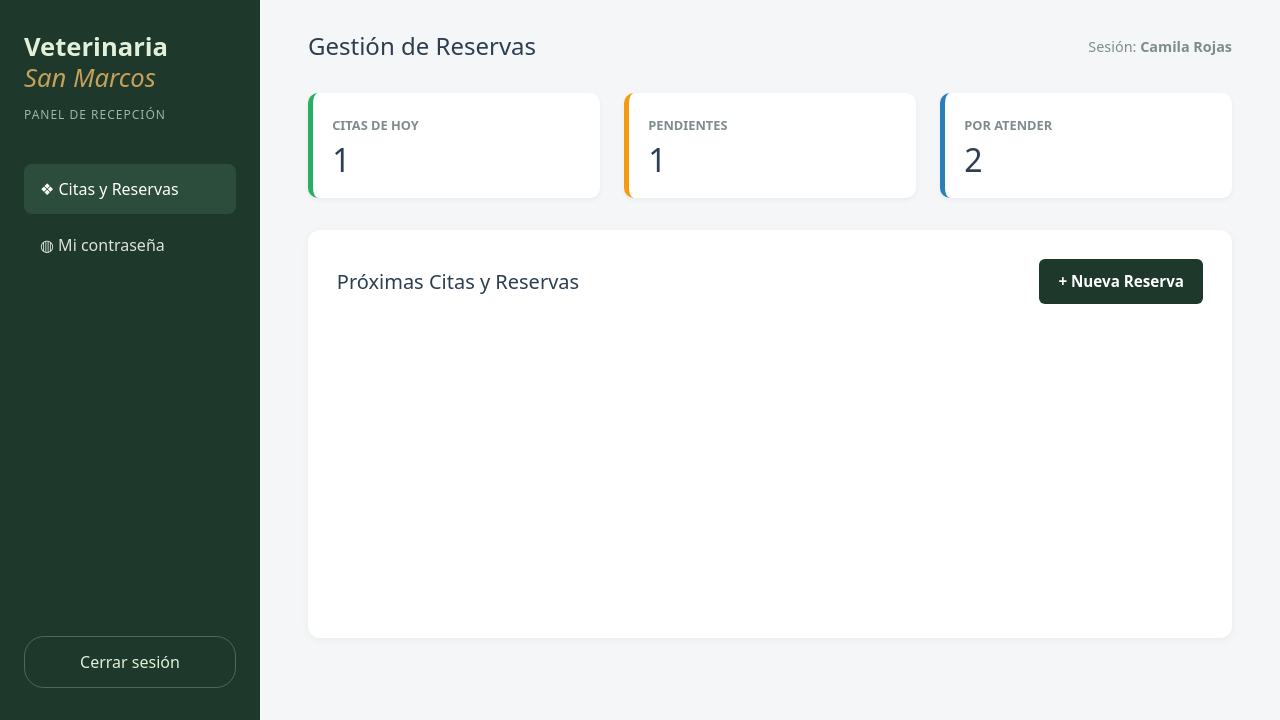
Test: RecepcionistaDashboard (panel de recepción con la API) › 11. La recepcionista cambia su contraseña desde "Mi contraseña" y vuelve a la agenda
Click the button "◍ Mi contraseña": [130, 245] box [24,220,236,270]
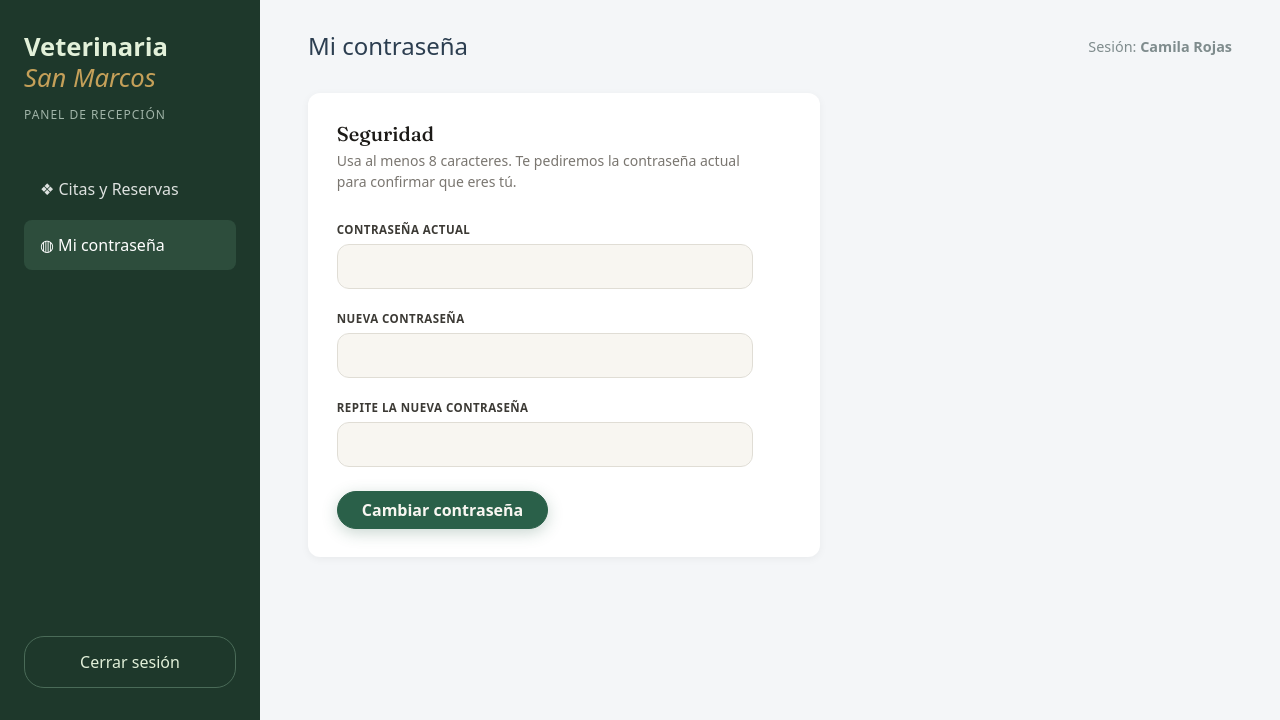
Expected: the text "Pepe" is not shown
Expected: the heading "Mi contraseña" is shown, [308,32,468,61]
In the password field labelled "Contraseña actual": [545, 266] box [337,244,753,289], type "Recep123!"
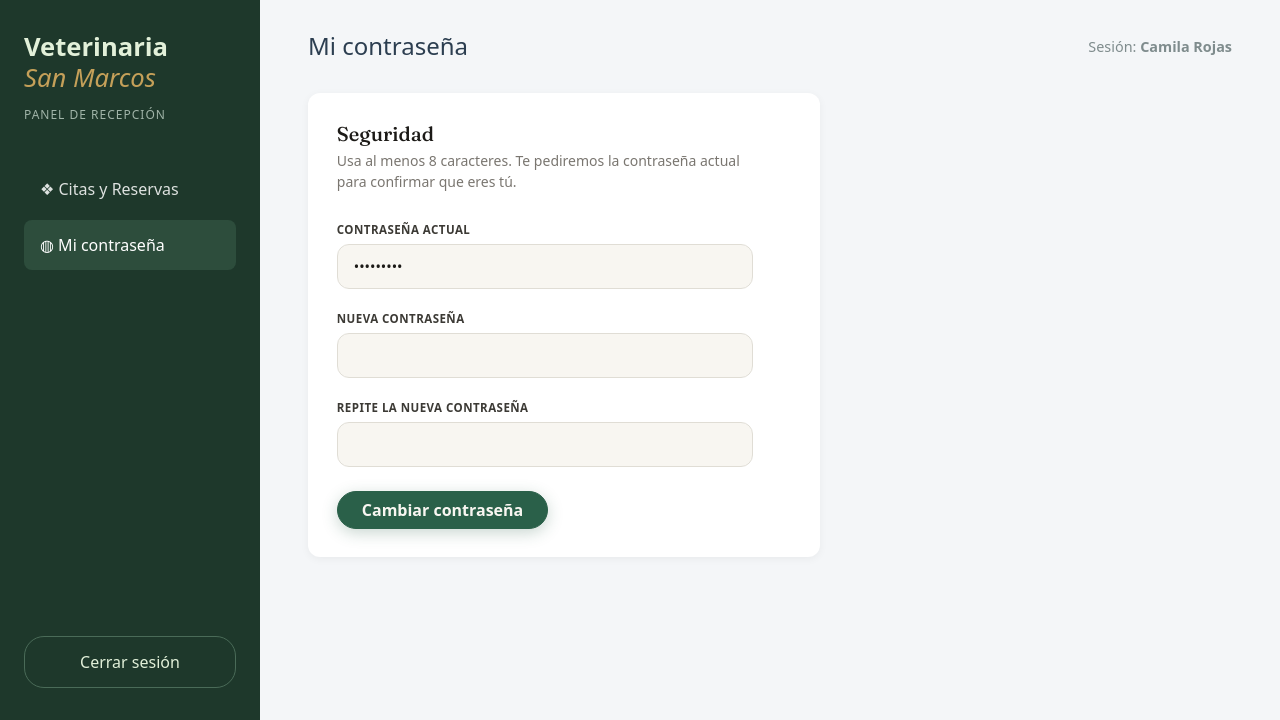
In the password field labelled "Nueva contraseña": [545, 356] box [337,333,753,378], type "Sopaipilla1234"
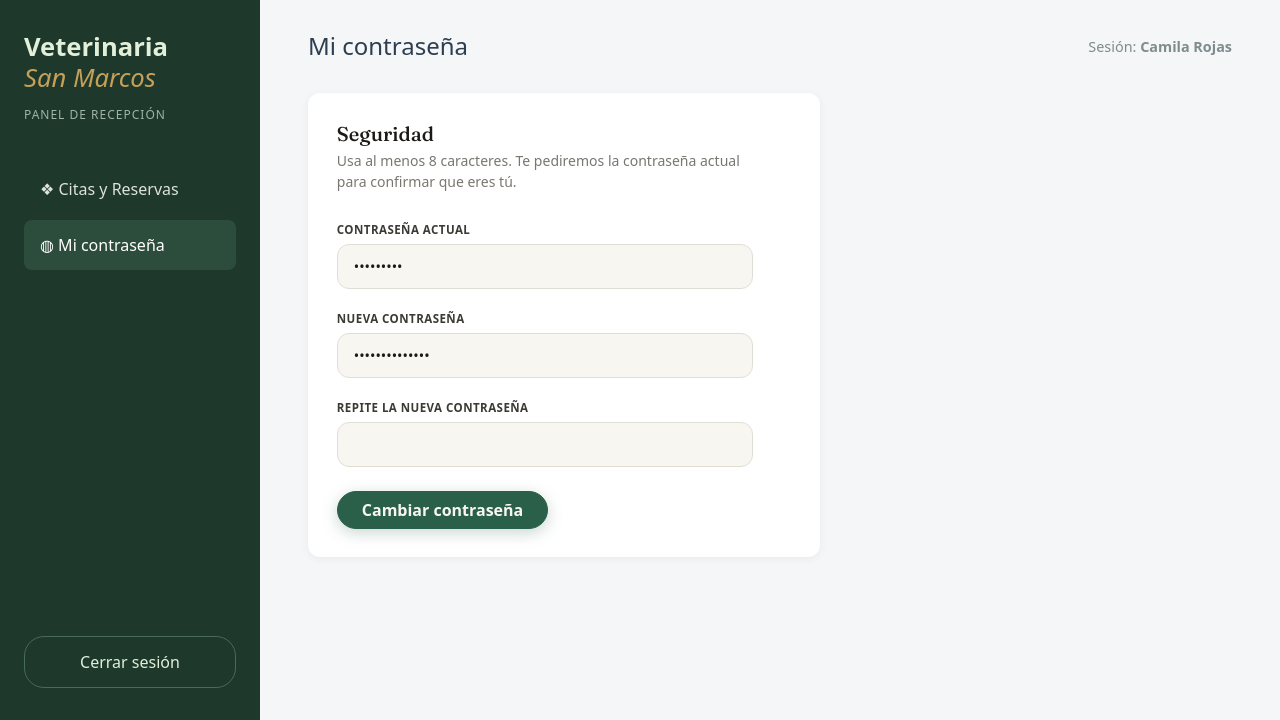
In the password field labelled "Repite la nueva contraseña": [545, 444] box [337,422,753,467], type "Sopaipilla1234"
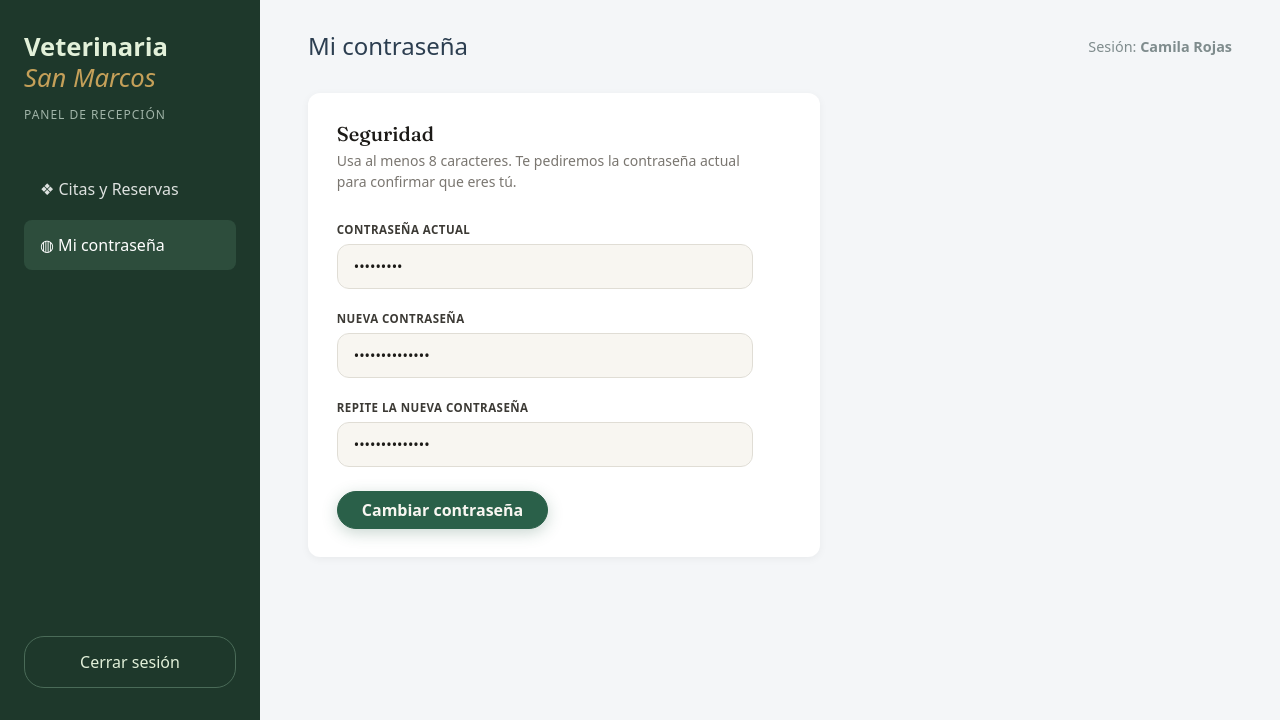
Click the button "Cambiar contraseña": [443, 510] box [337,491,548,529]
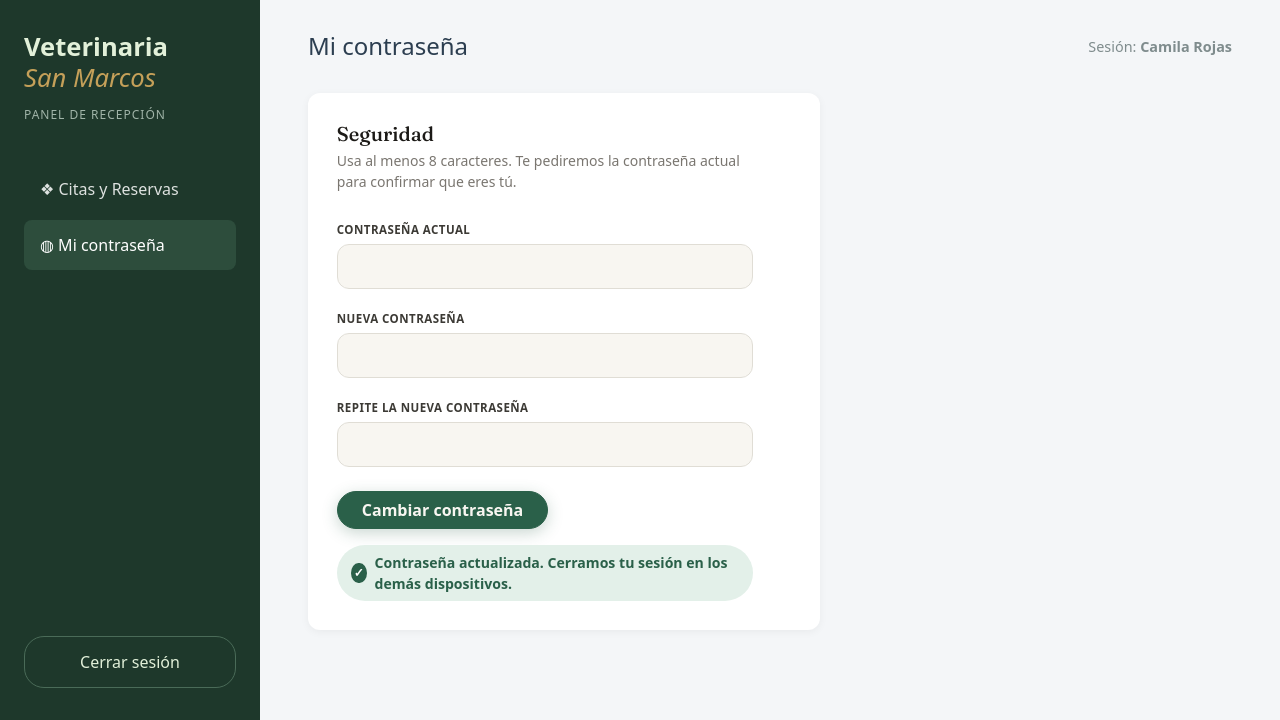
Expected: the text "✓ Contraseña actualizada. Cerramos tu sesión en los demás dispositivos." is shown, [337,545,753,601]
Click the button "❖ Citas y Reservas": [130, 189] box [24,164,236,214]
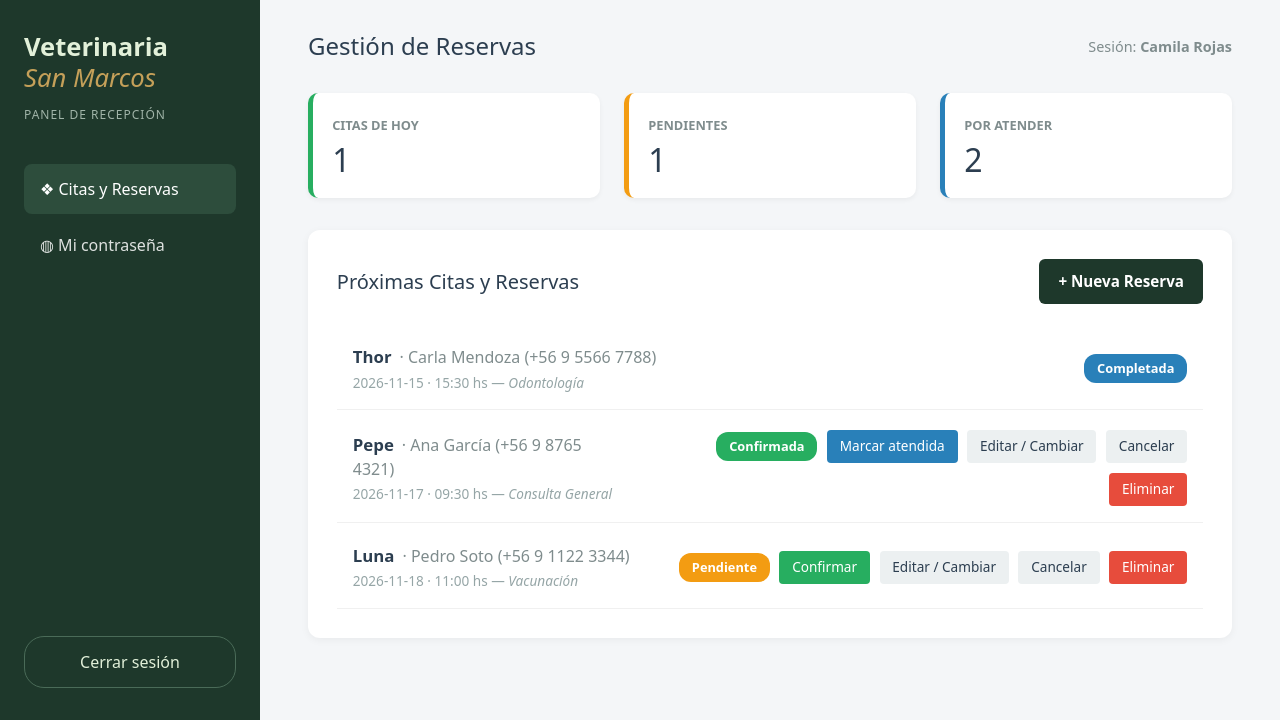
Expected: the text "Pepe" is shown, [353,433,394,456]
